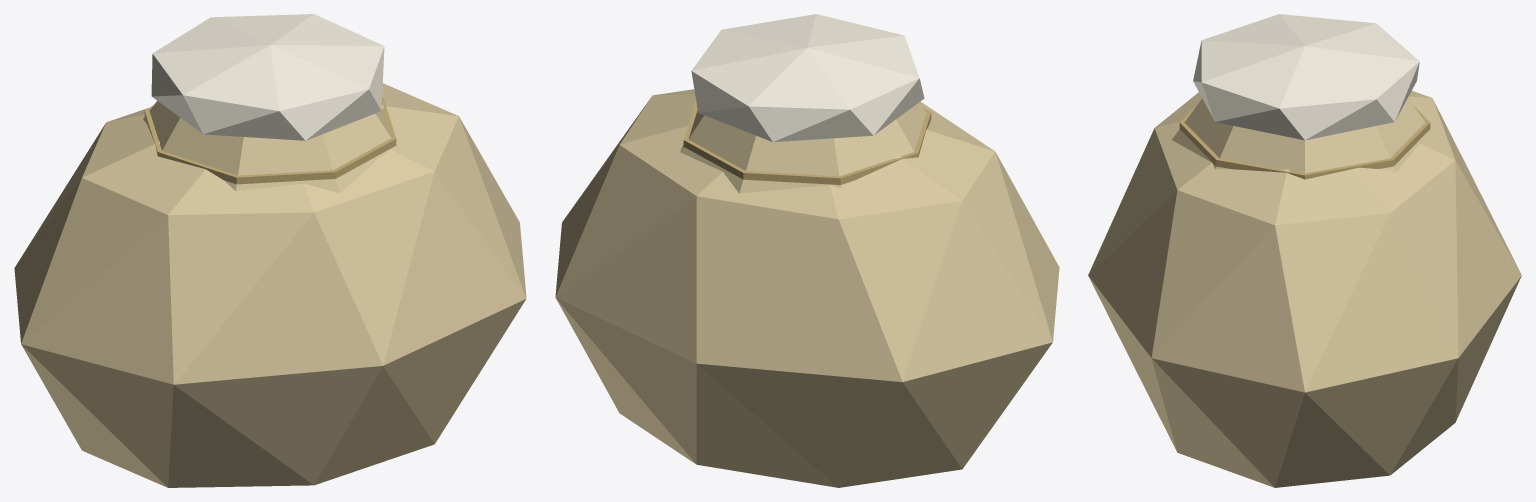
Rendered from drop_flour.glb.
The picture shows the model from 3 angles, left to right: view 1: azimuth 30°, elevation 25°; view 2: azimuth 150°, elevation 25°; view 3: azimuth 270°, elevation 25°; orthographic projection. The views are drawn at different scales.
Parts seen in each view (by area): view 1: drop_flour; view 2: drop_flour; view 3: drop_flour.
Part boxes in pixels (x1,y1,x2,y2): drop_flour: (14, 14, 526, 487); drop_flour: (555, 14, 1059, 487); drop_flour: (1088, 14, 1521, 487).
Size of the model in its own units: 0.23 by 0.19 by 0.18.
